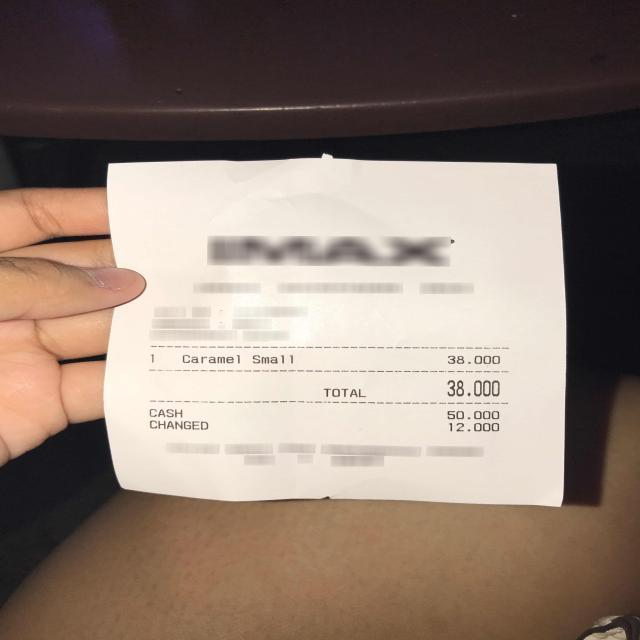kertas: (102, 154, 569, 506)
